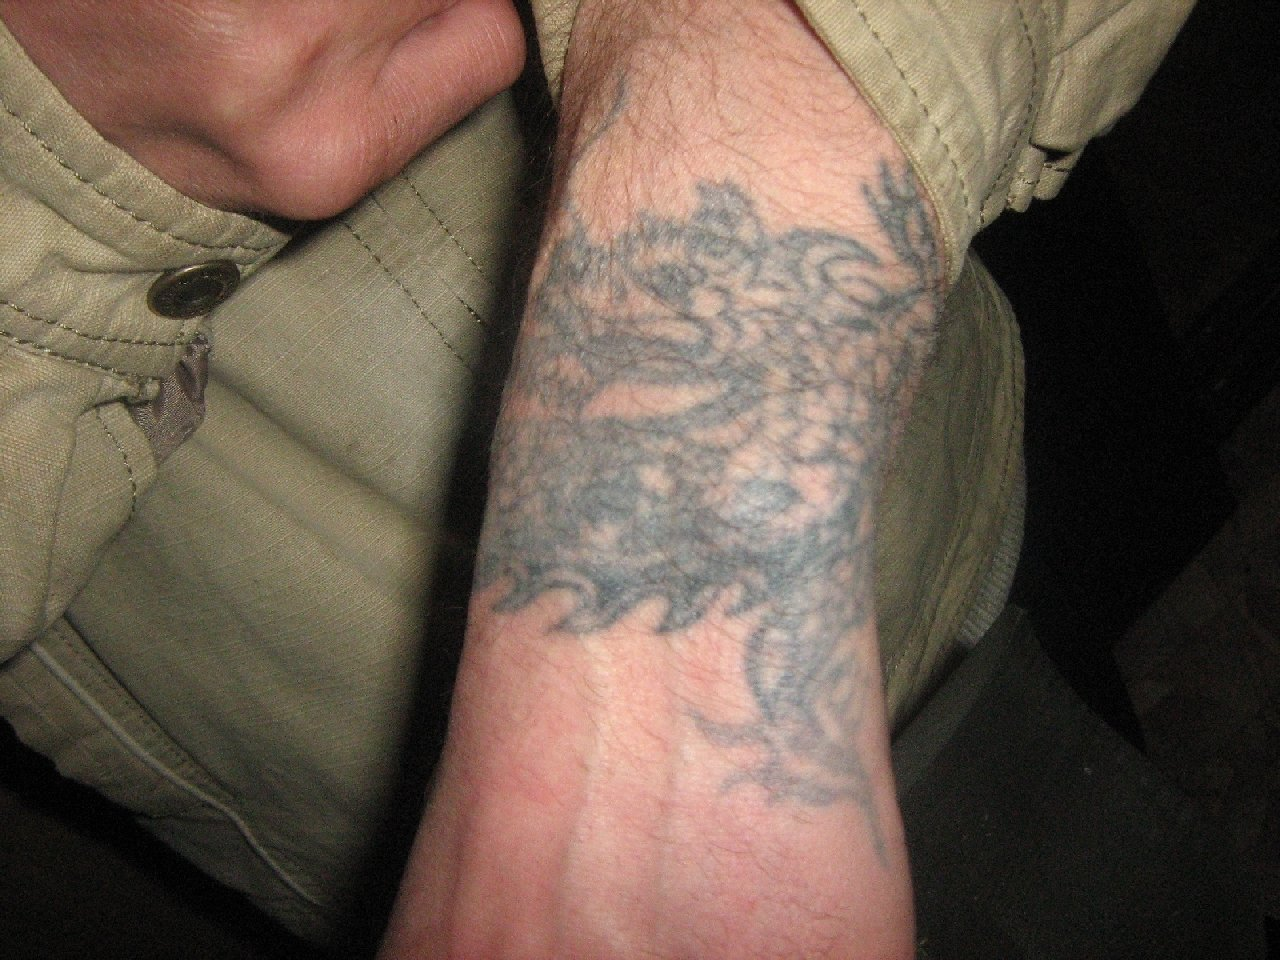tatu6_drakon: (475, 146, 1002, 837)
